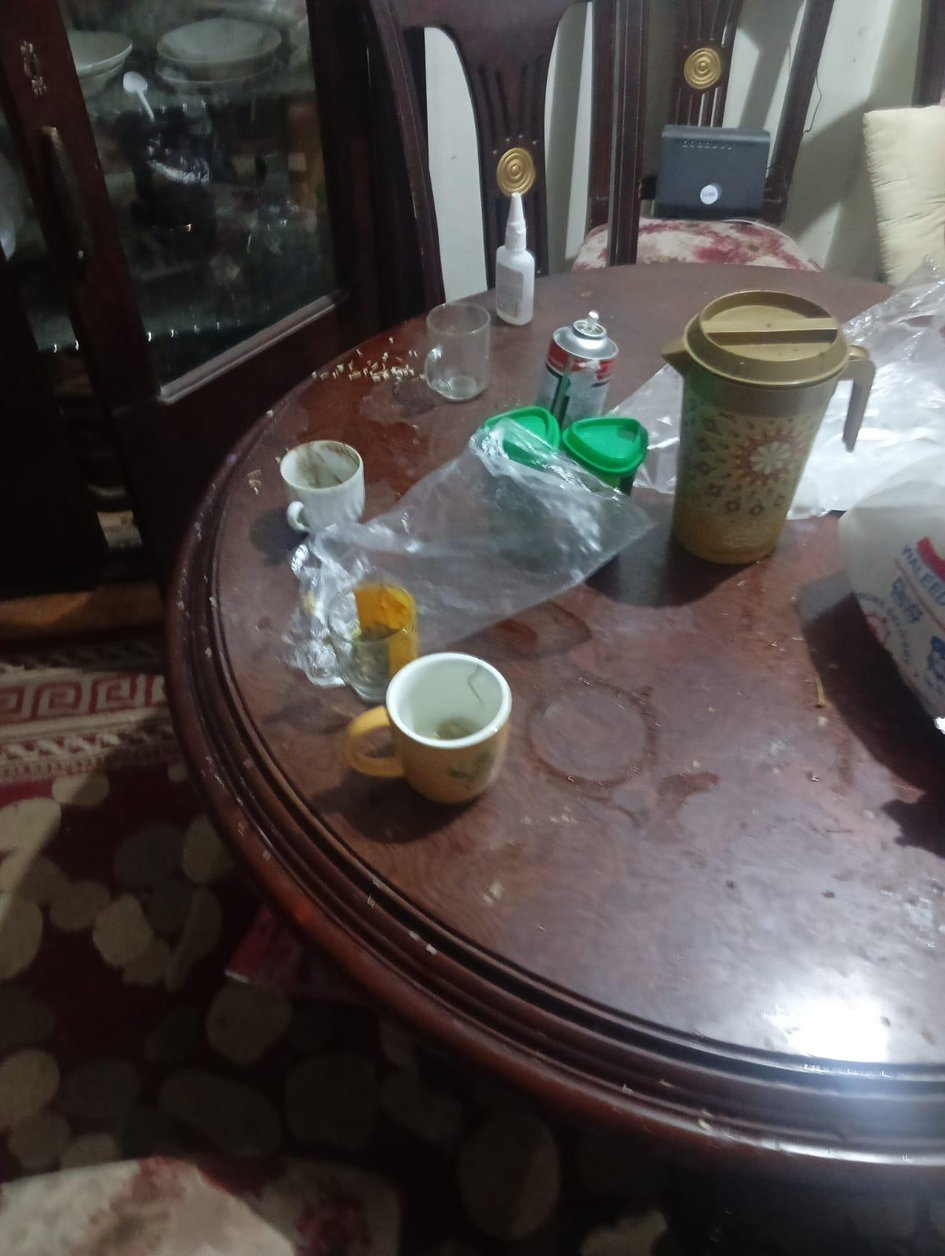cup: (345, 653, 512, 804), (327, 582, 418, 703), (279, 440, 364, 534), (389, 685, 512, 745), (396, 677, 502, 739), (425, 301, 490, 401)
